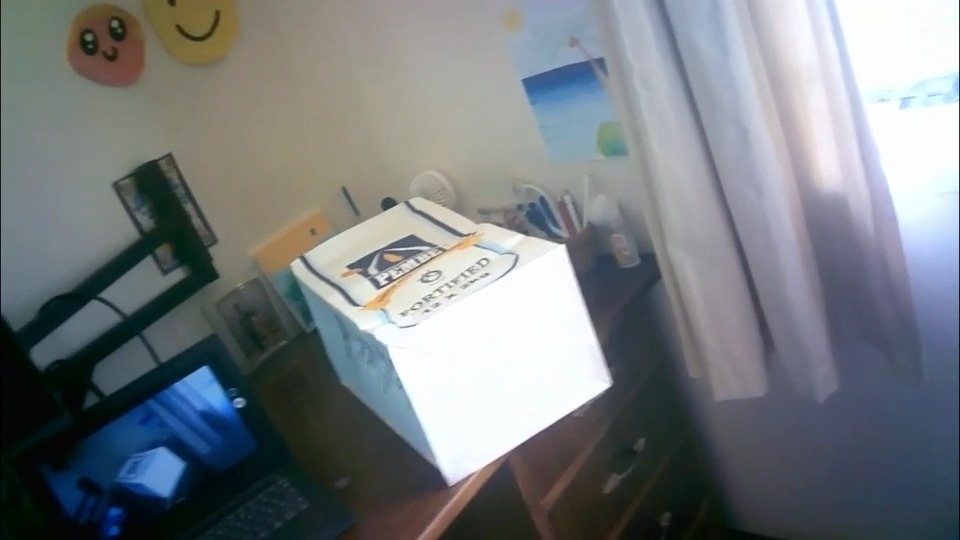maize_flour_green_label: (292, 198, 612, 481)
